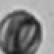correct: (0, 11, 45, 54)
